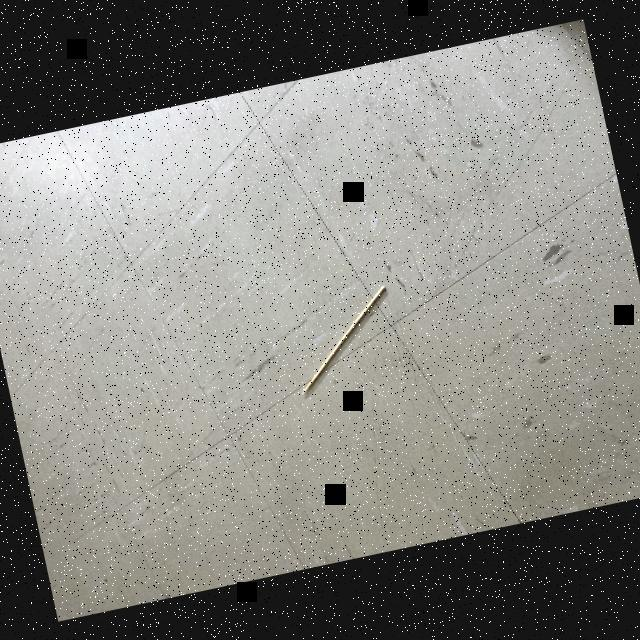stick: (267, 272, 416, 416)
